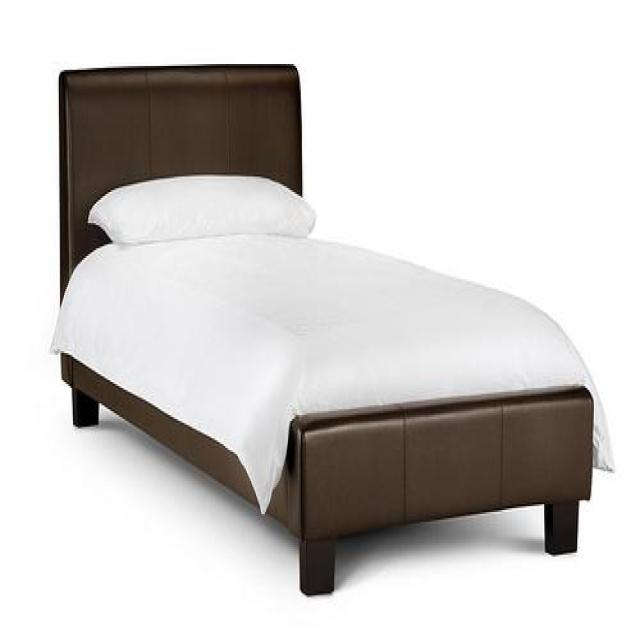bed: (50, 62, 614, 595)
